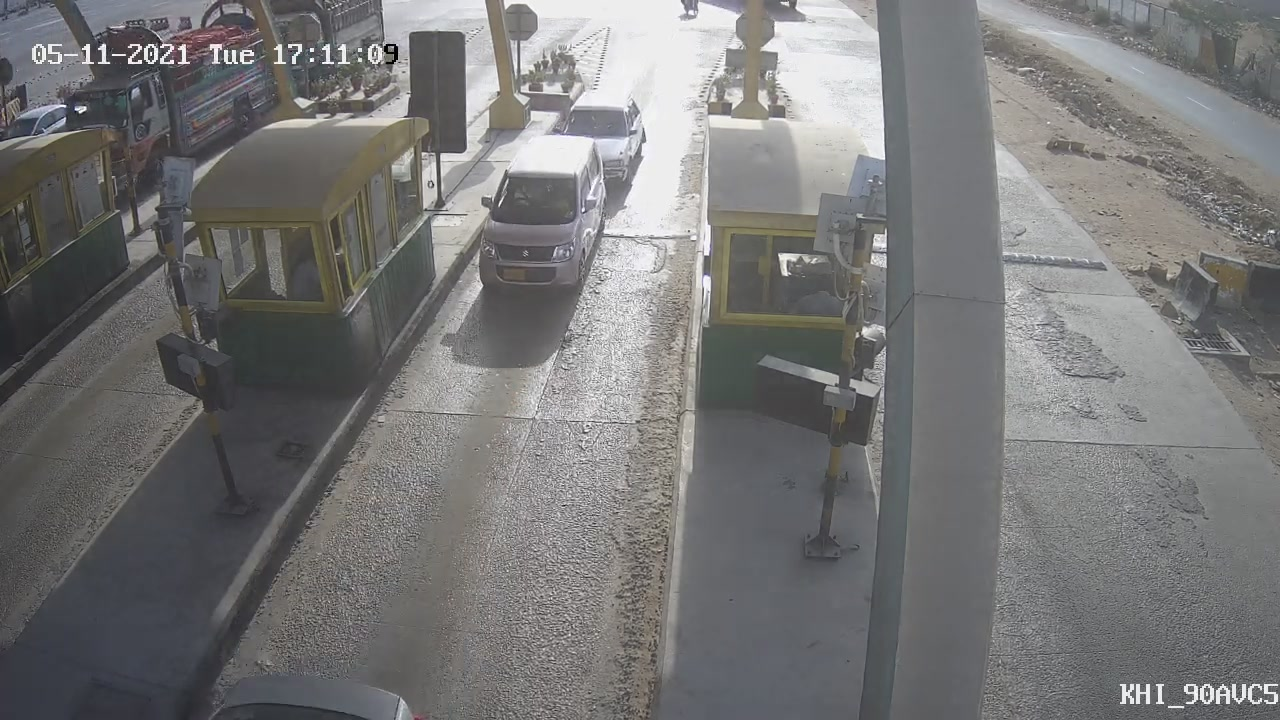F1: (463, 120, 626, 308)
